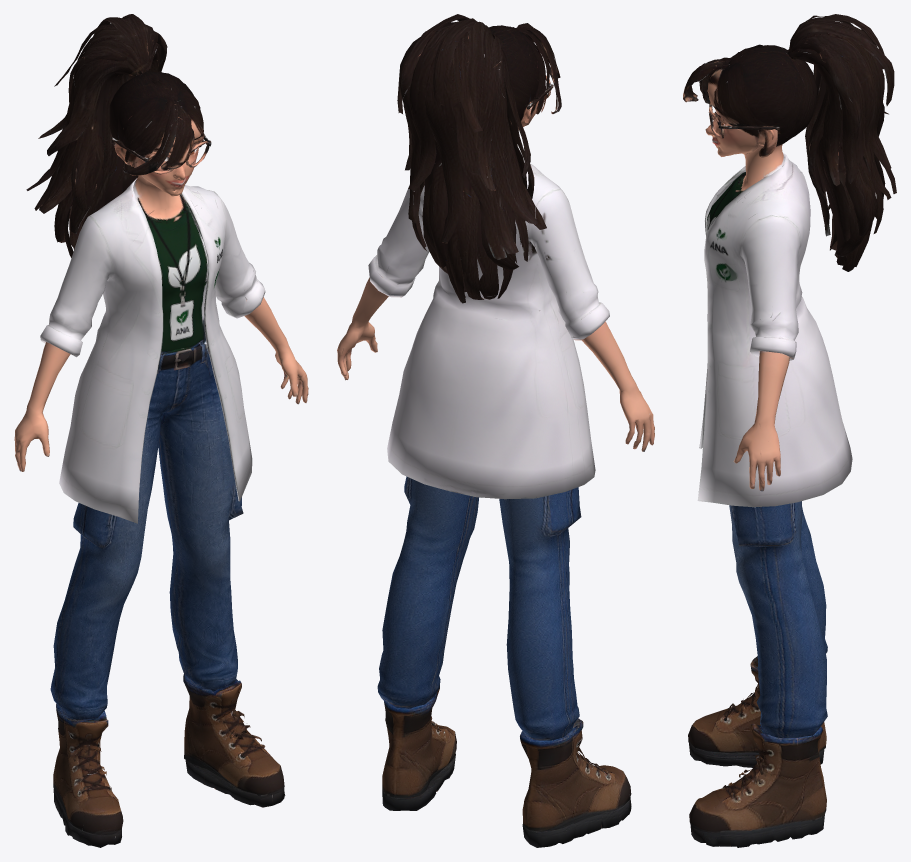
Rendered from ana-ecocientista.glb.
3 renders of one model, left to right at view 1: azimuth 30°, elevation 25°; view 2: azimuth 150°, elevation 25°; view 3: azimuth 270°, elevation 25°, orthographic. The views are drawn at different scales.
Size of the model in its own units: 0.4004 by 1 by 0.2495.
1 material, 1 textured.
